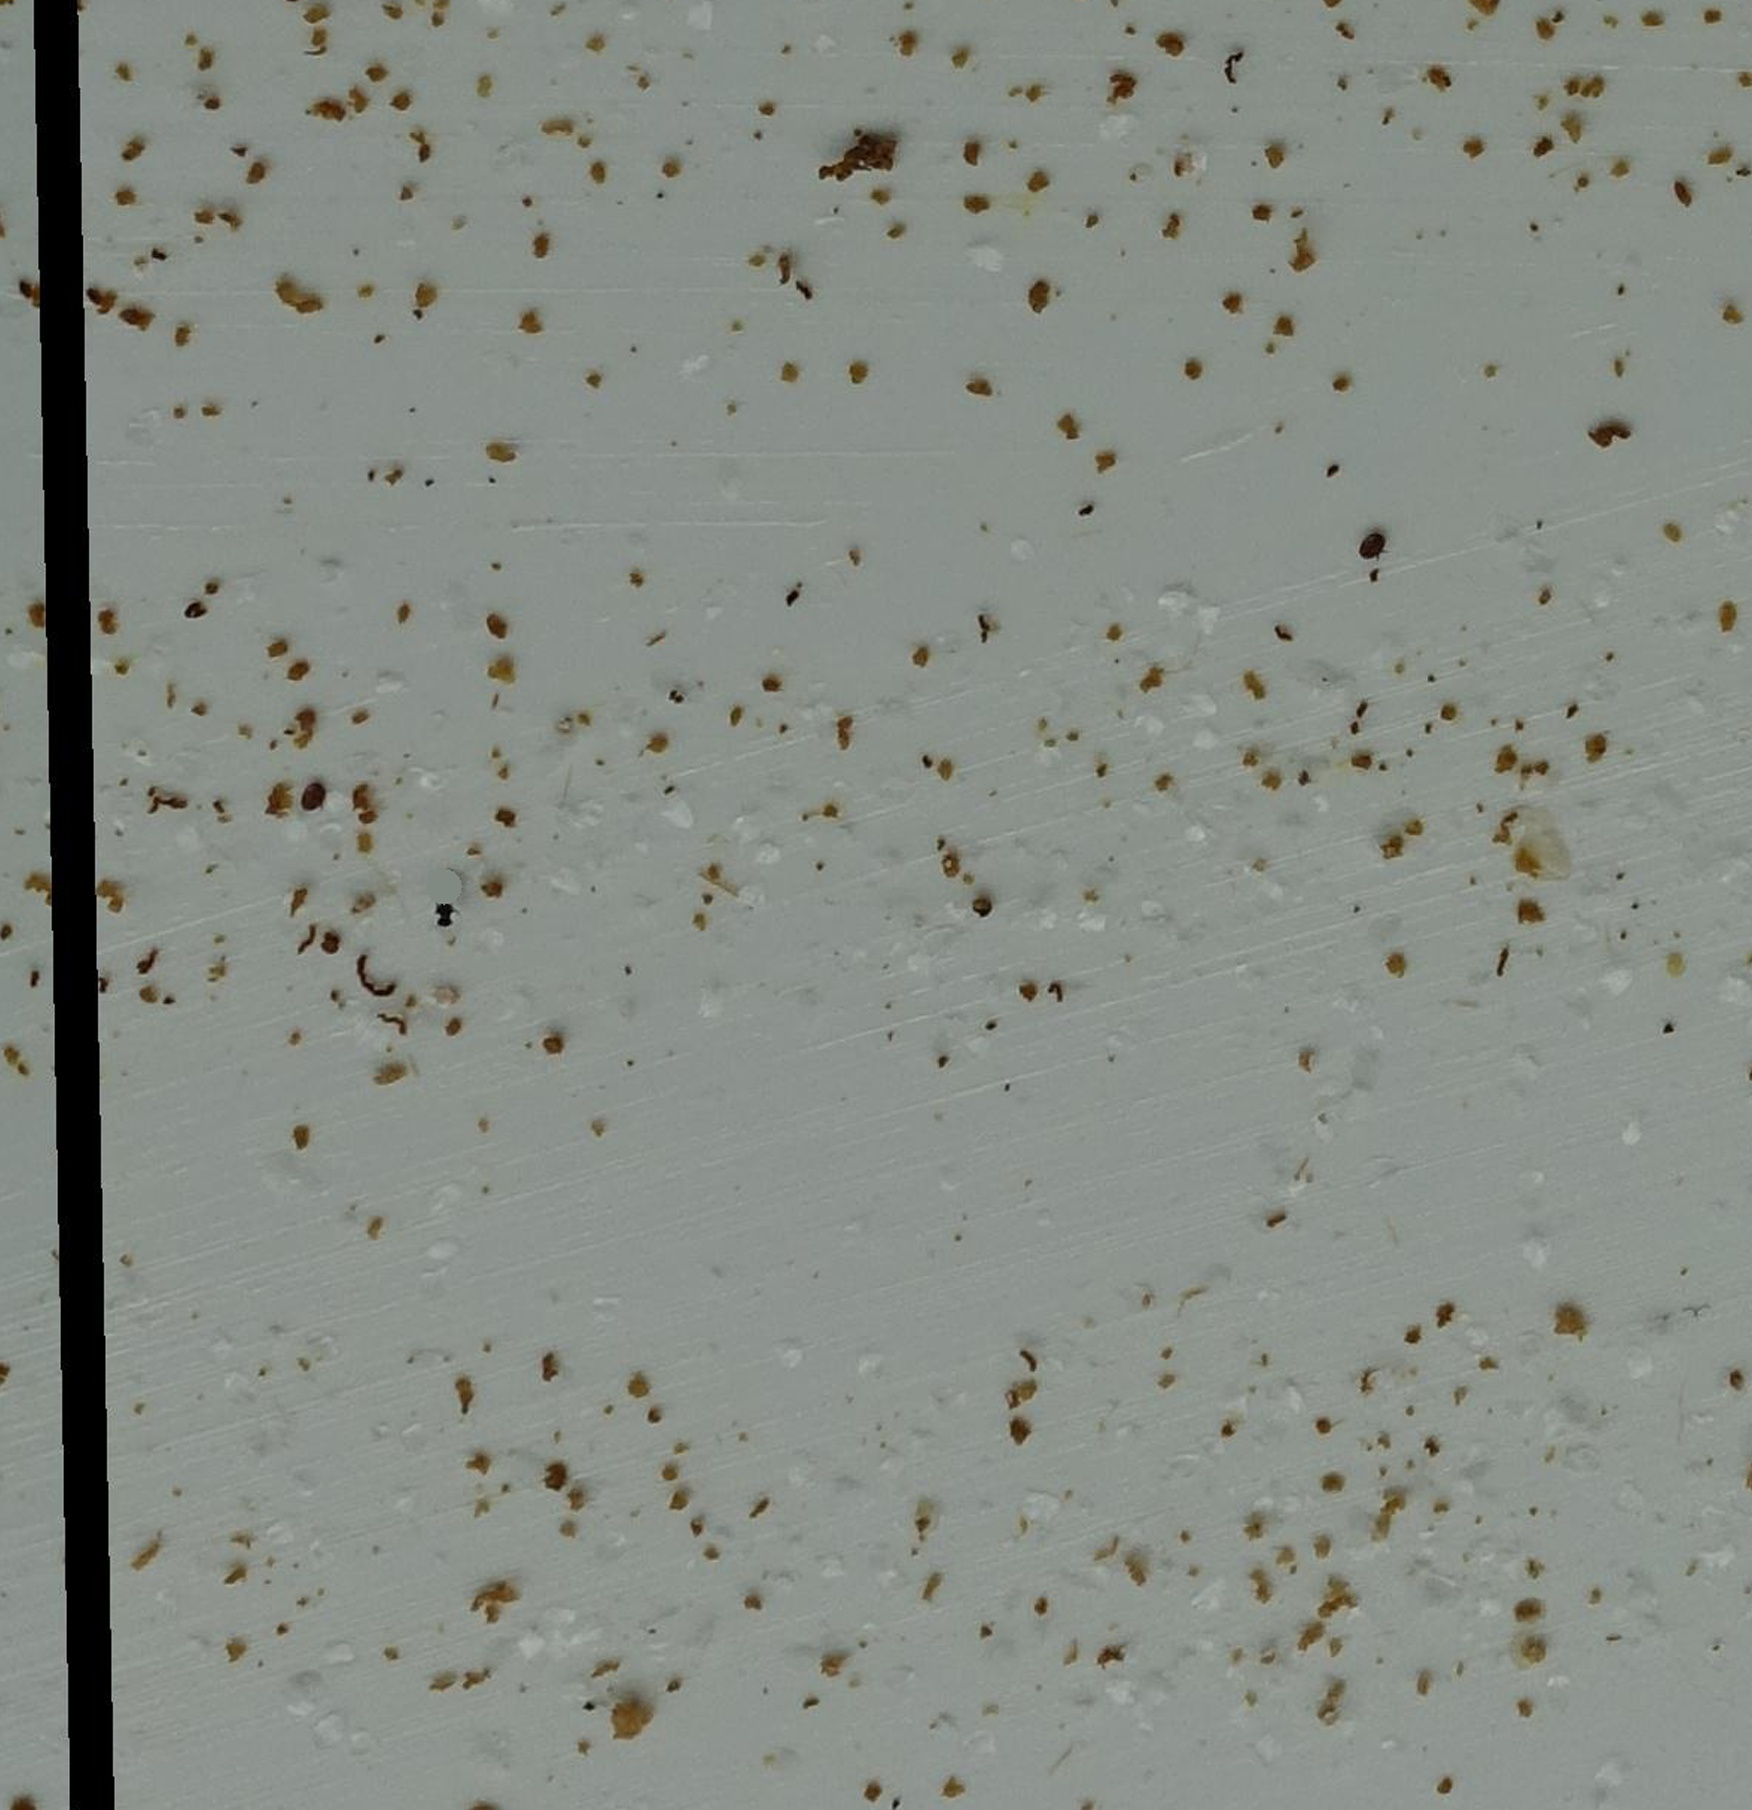Varroa: (1351, 533, 1382, 566), (297, 781, 325, 810)
